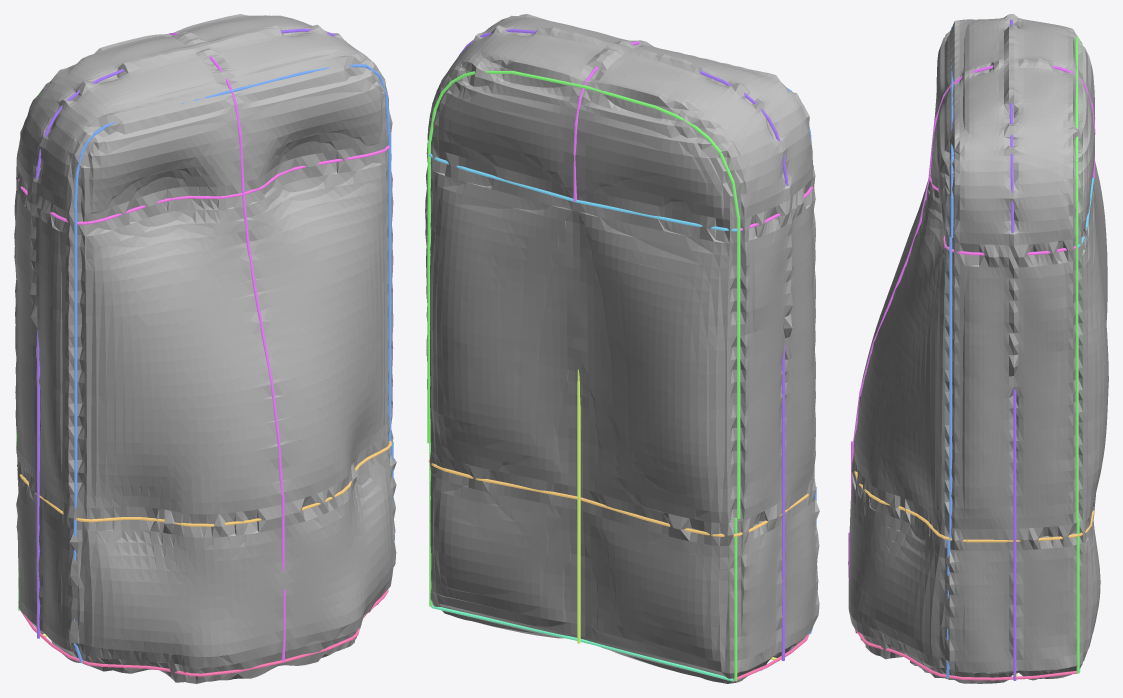
3 views of the same model, side by side, from view 1: azimuth 30°, elevation 25°; view 2: azimuth 150°, elevation 25°; view 3: azimuth 270°, elevation 25° (orthographic). The views are drawn at different scales.
Size of the model in its own units: 0.5135 by 0.8274 by 0.3481.
